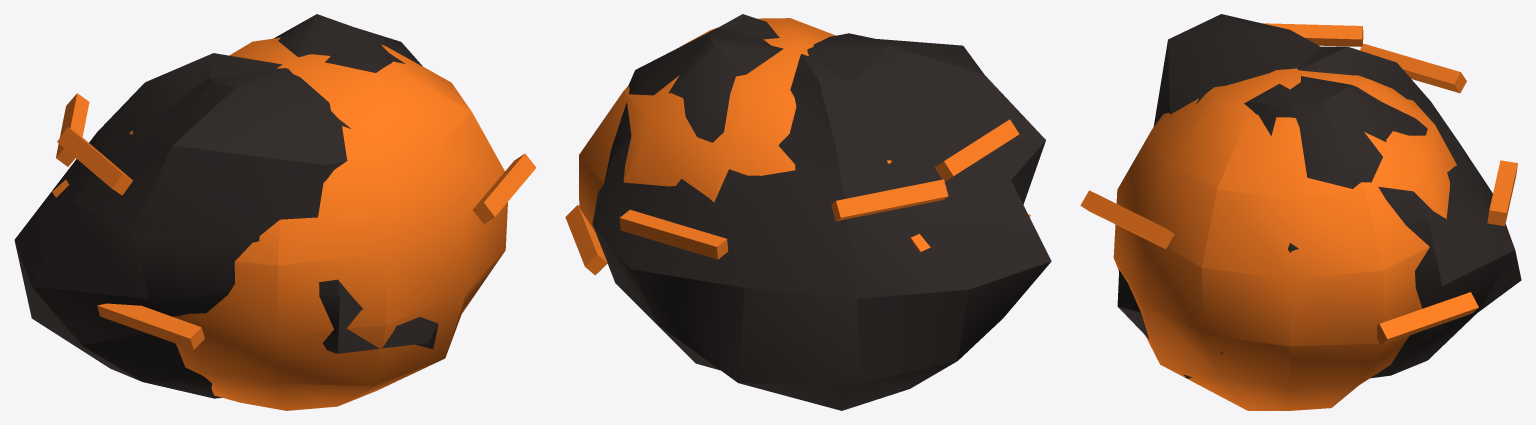
The model's file is brocken_3.obj.
3 renders of one model, left to right at view 1: azimuth 30°, elevation 25°; view 2: azimuth 150°, elevation 25°; view 3: azimuth 270°, elevation 25°, orthographic. The views are drawn at different scales.
Visible parts, largest first — view 1: brocken_3_Koerper; view 2: brocken_3_Koerper; view 3: brocken_3_Koerper.
Part boxes in pixels (x1,y1,x2,y2): brocken_3_Koerper: (14, 14, 536, 410); brocken_3_Koerper: (565, 14, 1051, 410); brocken_3_Koerper: (1080, 14, 1521, 410).
Size of the model in its own units: 1.7 by 1.23 by 1.49.
